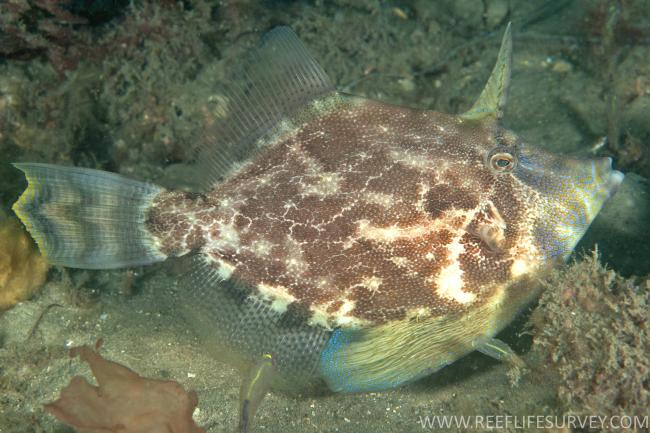fish: (11, 21, 624, 394)
